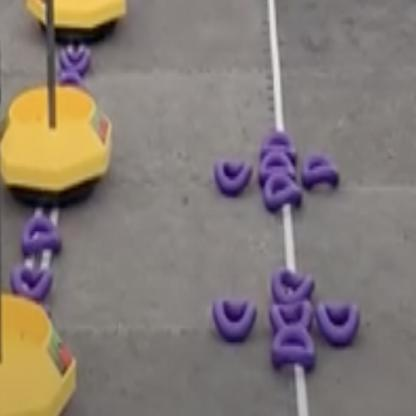ring: (314, 297, 358, 346), (270, 323, 315, 369), (212, 296, 256, 341), (20, 214, 61, 256), (270, 264, 314, 301), (9, 264, 51, 300), (263, 170, 301, 209), (213, 157, 251, 195), (268, 300, 312, 332), (259, 130, 296, 165), (300, 154, 338, 188), (258, 150, 296, 183), (57, 45, 90, 74)
